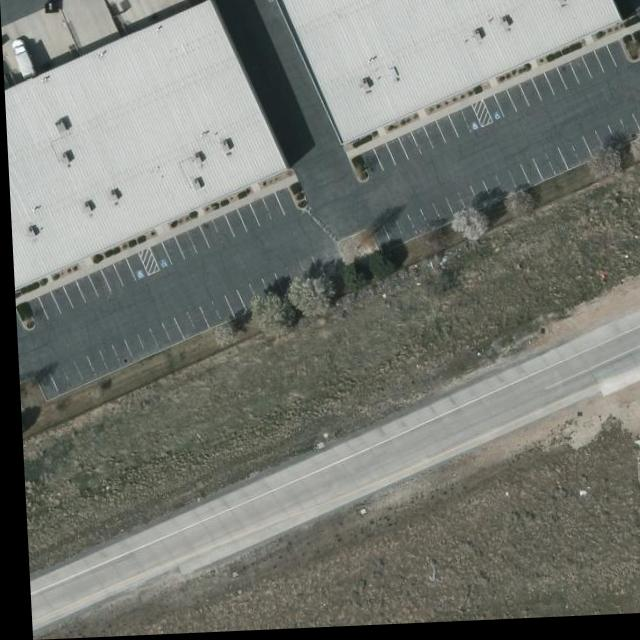vehicle: (7, 38, 40, 81)
